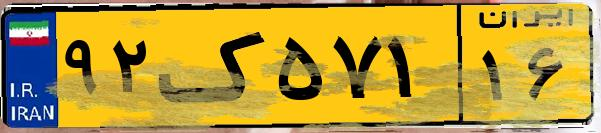1: (385, 28, 445, 110), (475, 38, 525, 113)
2: (110, 28, 158, 98)
5: (270, 28, 330, 110)
6: (525, 38, 570, 115)
7: (330, 28, 385, 110)
9: (57, 26, 110, 100)
ک: (158, 12, 270, 120)
